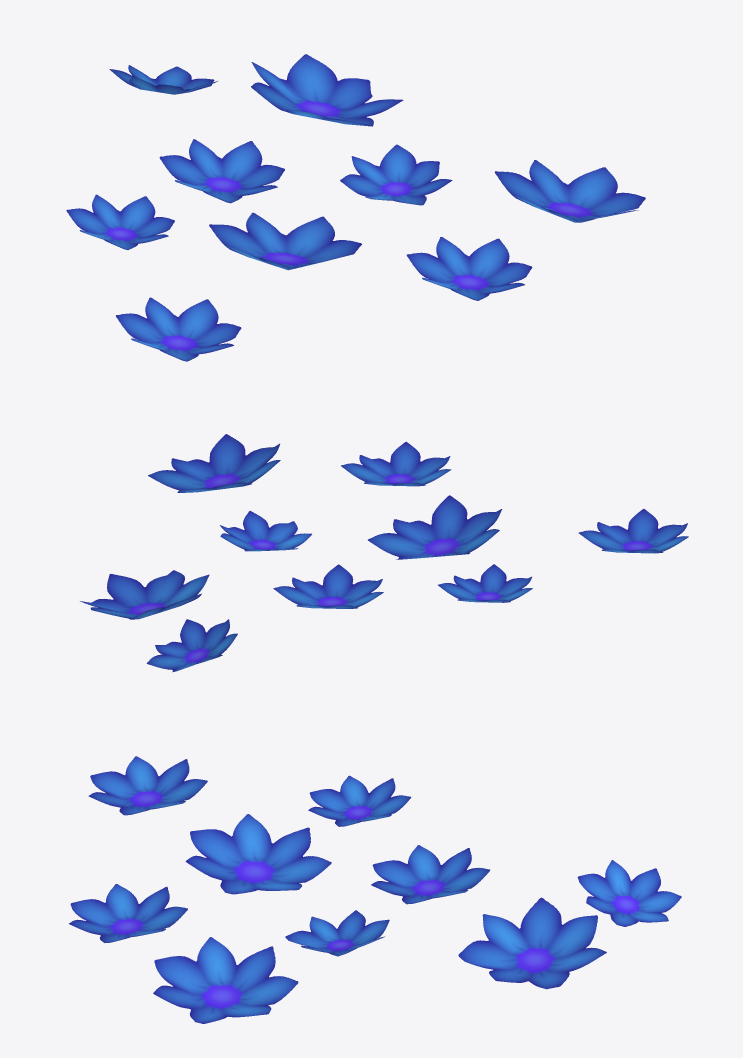
The model's file is Flower01B.glb.
3 renders of one model, top to bottom at view 1: azimuth 30°, elevation 25°; view 2: azimuth 150°, elevation 25°; view 3: azimuth 270°, elevation 25°, orthographic. The views are drawn at different scales.
Visible parts, largest first — view 1: stylizedFlower01b; view 2: stylizedFlower01b; view 3: stylizedFlower01b.
Boxes of the visible parts, x1=… form: stylizedFlower01b: x1=66, y1=54, x2=645, y2=361; stylizedFlower01b: x1=80, y1=434, x2=688, y2=672; stylizedFlower01b: x1=69, y1=756, x2=681, y2=1023.
Bounding box in the file's own units: 0.8415 × 0.0853 × 0.8465.
Materials: 1 (1 with a texture image).
